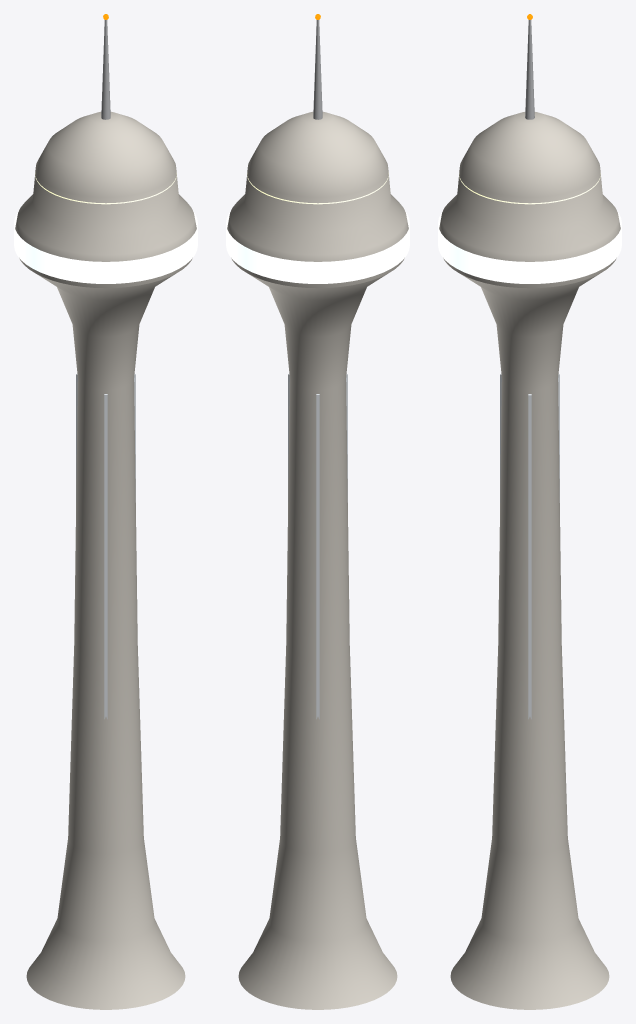
File: SM_RiyadhTVTower.fbx
The picture shows the model from 3 angles, left to right: view 1: azimuth 30°, elevation 25°; view 2: azimuth 150°, elevation 25°; view 3: azimuth 270°, elevation 25°; orthographic projection.
Parts seen in each view (by area): view 1: SM_RiyadhTVTower; view 2: SM_RiyadhTVTower; view 3: SM_RiyadhTVTower.
Part boxes in pixels (<box>): SM_RiyadhTVTower: <box>14,14,197,1009</box>; SM_RiyadhTVTower: <box>226,14,409,1009</box>; SM_RiyadhTVTower: <box>438,14,621,1009</box>.
Bounding box in the file's own units: 3010 × 17370 × 3010.
